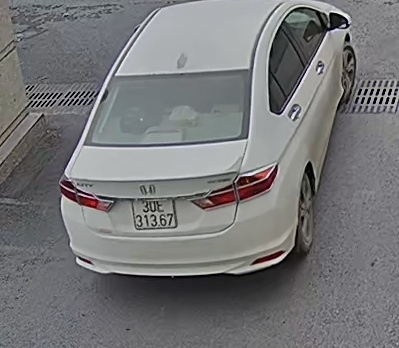vehicle plate: (126, 196, 181, 232)
